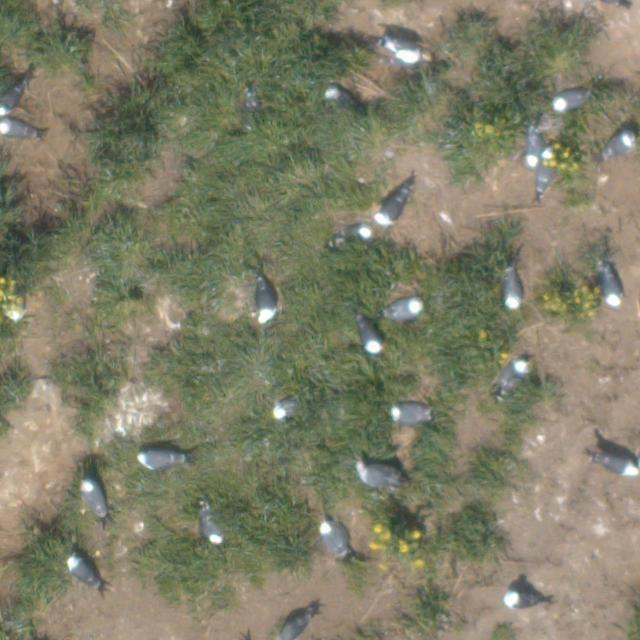umineko: (0, 67, 33, 116), (321, 84, 368, 116), (281, 606, 316, 640), (318, 520, 349, 557), (198, 504, 224, 547), (256, 275, 277, 327), (67, 555, 101, 587), (134, 448, 188, 468), (382, 36, 419, 64), (355, 465, 396, 486), (598, 457, 638, 478), (334, 224, 374, 244), (499, 360, 525, 390), (378, 193, 405, 221), (604, 131, 634, 156), (82, 482, 104, 515), (603, 269, 623, 305), (392, 403, 428, 422), (556, 90, 587, 110), (530, 131, 552, 159), (504, 274, 522, 308), (390, 298, 420, 318), (504, 590, 539, 607), (361, 323, 380, 352), (274, 398, 294, 418), (2, 122, 30, 136)
